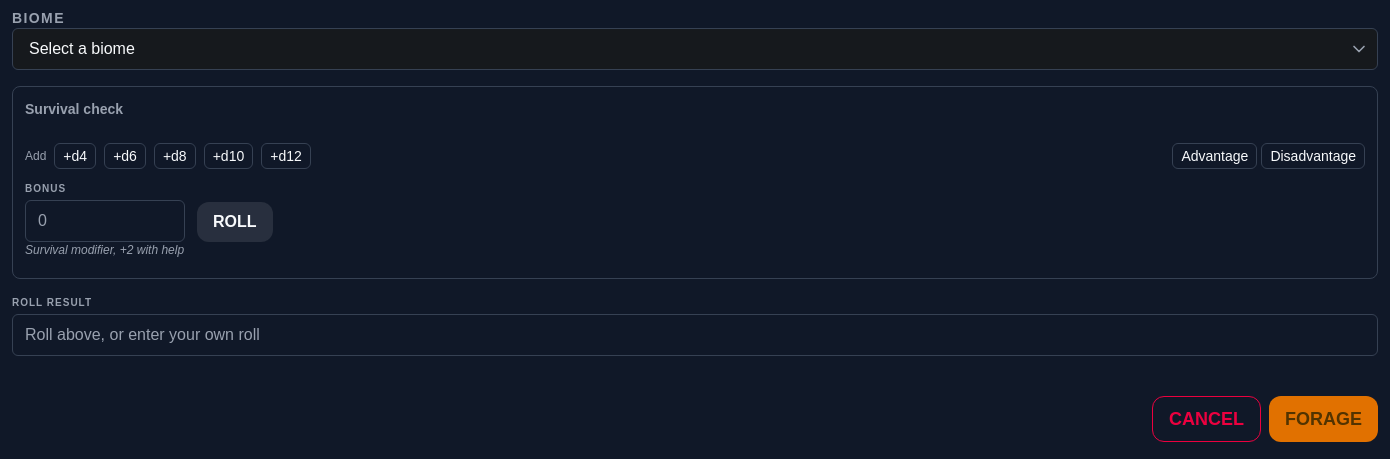
it: components/modals/go-foraging-modal/forage-biome › should forage with an entered roll and add the find
Click the button with test id "Dropdown__button" at (82, 48), box [12,28,1378,70]
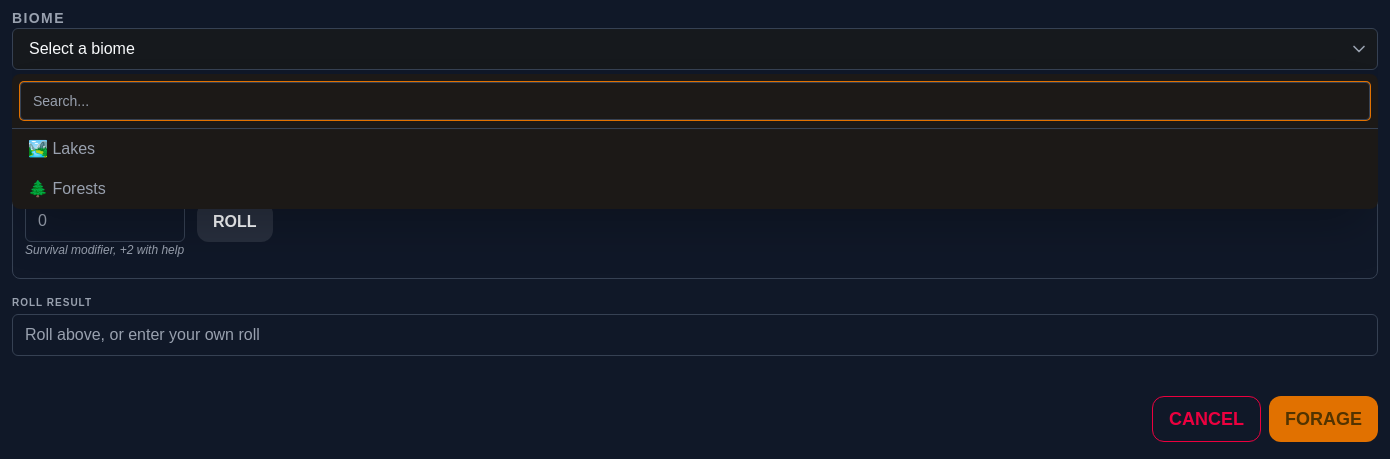
Click the button "🌲 Forests" at (67, 188), box [12,169,1378,209]
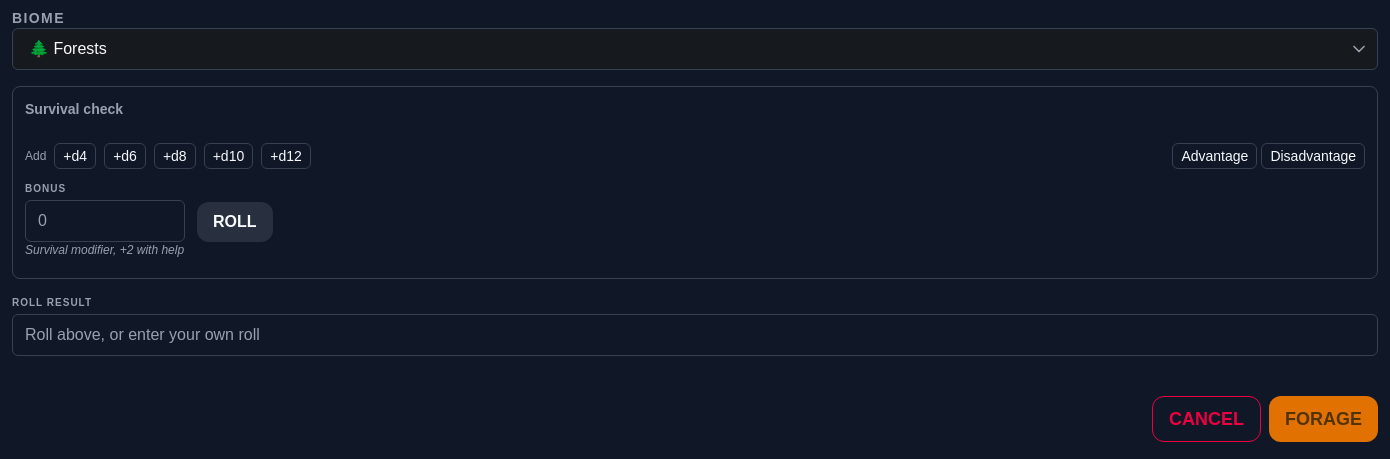
Type "17" into the number field labelled "Roll result" at (695, 335), box [12,314,1378,356]
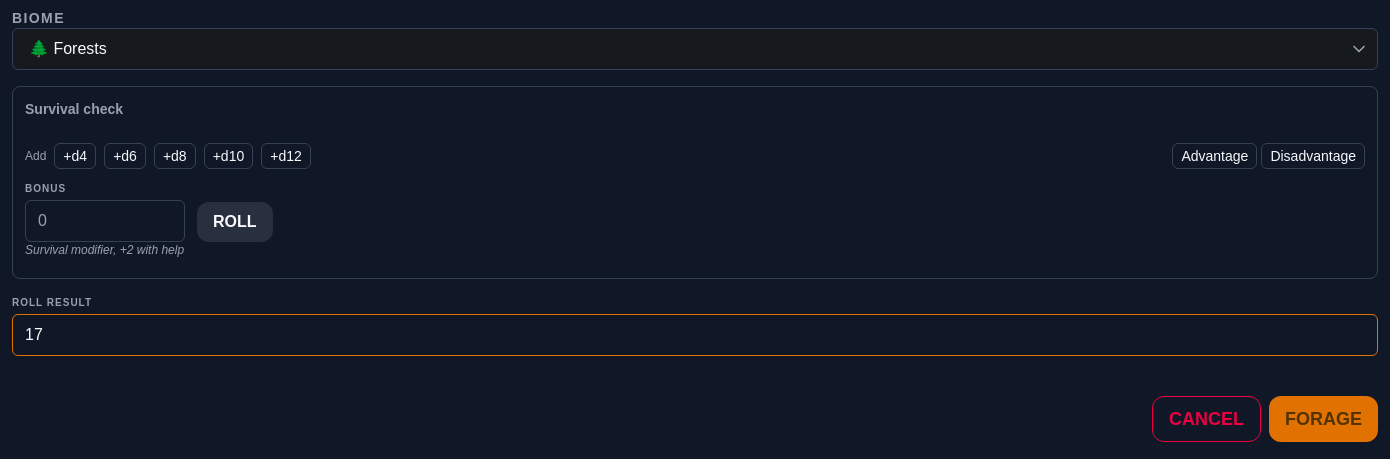
Click the button "Forage" at (1324, 419), box [1269,396,1378,442]
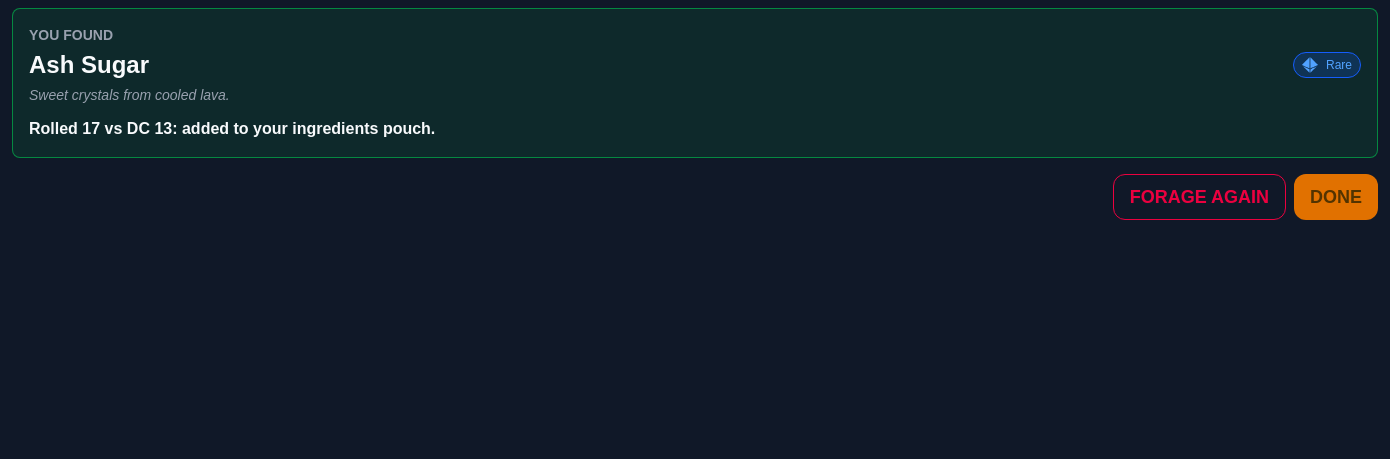
Now the text "You found" is shown, box [29,27,113,43]
Now the text "Ash Sugar" is shown, box [29,49,149,81]
Now the text with test id "forage-biome__outcome" reads "Rolled 17 vs DC 13: added to your ingredients pouch.", box [29,120,435,137]
